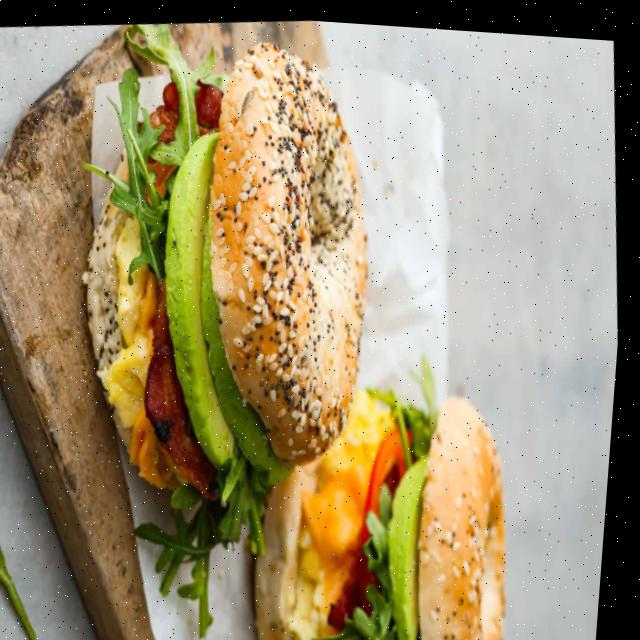Bagel: (212, 40, 369, 459), (425, 390, 513, 640)
